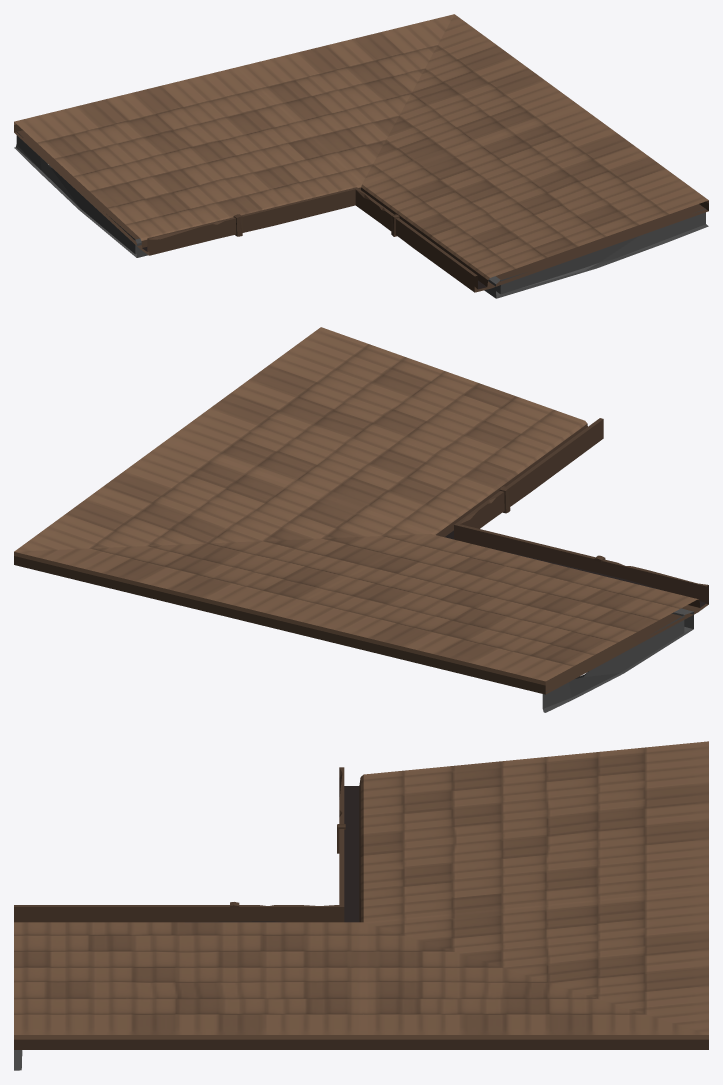
The model's file is SM_Bld_House_Deck_Roof_InnerCorner_01.fbx.
3 renders of one model, top to bottom at view 1: azimuth 30°, elevation 25°; view 2: azimuth 150°, elevation 25°; view 3: azimuth 270°, elevation 25°, orthographic. The views are drawn at different scales.
Visible parts, largest first — view 1: SM_Bld_House_Deck_Roof_InnerCorner_01; view 2: SM_Bld_House_Deck_Roof_InnerCorner_01; view 3: SM_Bld_House_Deck_Roof_InnerCorner_01.
Boxes of the visible parts, x1,y1,x2,y2 form: SM_Bld_House_Deck_Roof_InnerCorner_01: [14, 14, 708, 298]; SM_Bld_House_Deck_Roof_InnerCorner_01: [14, 327, 708, 712]; SM_Bld_House_Deck_Roof_InnerCorner_01: [14, 741, 708, 1070].
Size of the model in its own units: 480 by 48.95 by 480.
